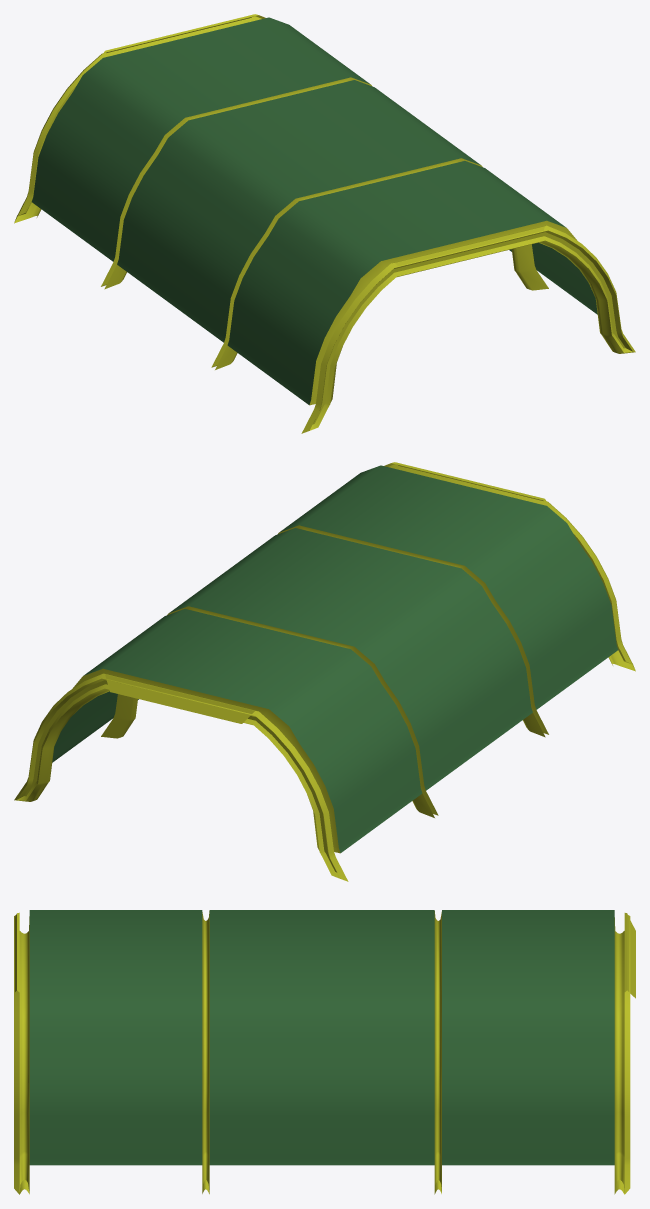
File: Museum Roof.FBX
3 views of the same model, one above another, from view 1: azimuth 30°, elevation 25°; view 2: azimuth 150°, elevation 25°; view 3: azimuth 270°, elevation 25° (orthographic). The views are drawn at different scales.
Visible parts, largest first — view 1: Capsule002; view 2: Capsule002; view 3: Capsule002.
Part boxes in pixels (x1,y1,x2,y2): Capsule002: [14, 14, 635, 433]; Capsule002: [14, 462, 635, 881]; Capsule002: [14, 910, 635, 1194].
Size of the model in its own units: 732 by 312 by 1120.
